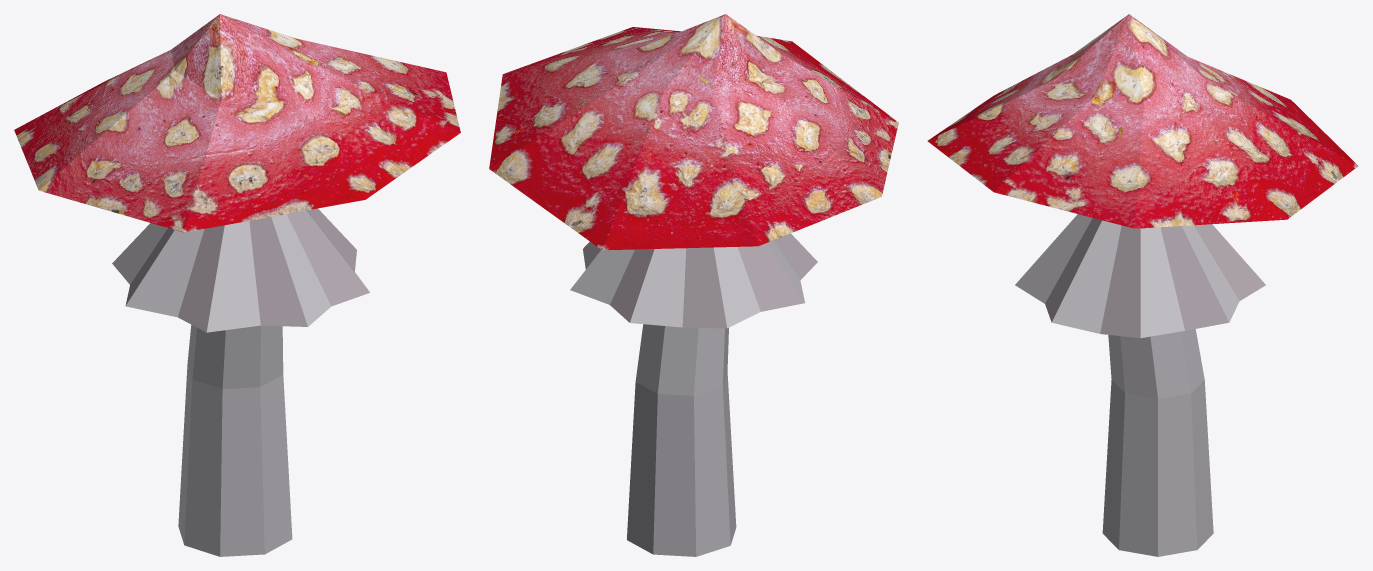
Rendered from myxomor1 (2).fbx.
3 views of the same model, side by side, from view 1: azimuth 30°, elevation 25°; view 2: azimuth 150°, elevation 25°; view 3: azimuth 270°, elevation 25° (orthographic). The views are drawn at different scales.
Parts seen in each view (by area): view 1: Cone; view 2: Cone; view 3: Cone.
Boxes of the visible parts, <box> form: Cone: <box>14,14,460,556</box>; Cone: <box>489,14,898,556</box>; Cone: <box>927,14,1358,556</box>.
Size of the model in its own units: 15.84 by 20.28 by 15.69.
Materials: 3 (1 with a texture image).
